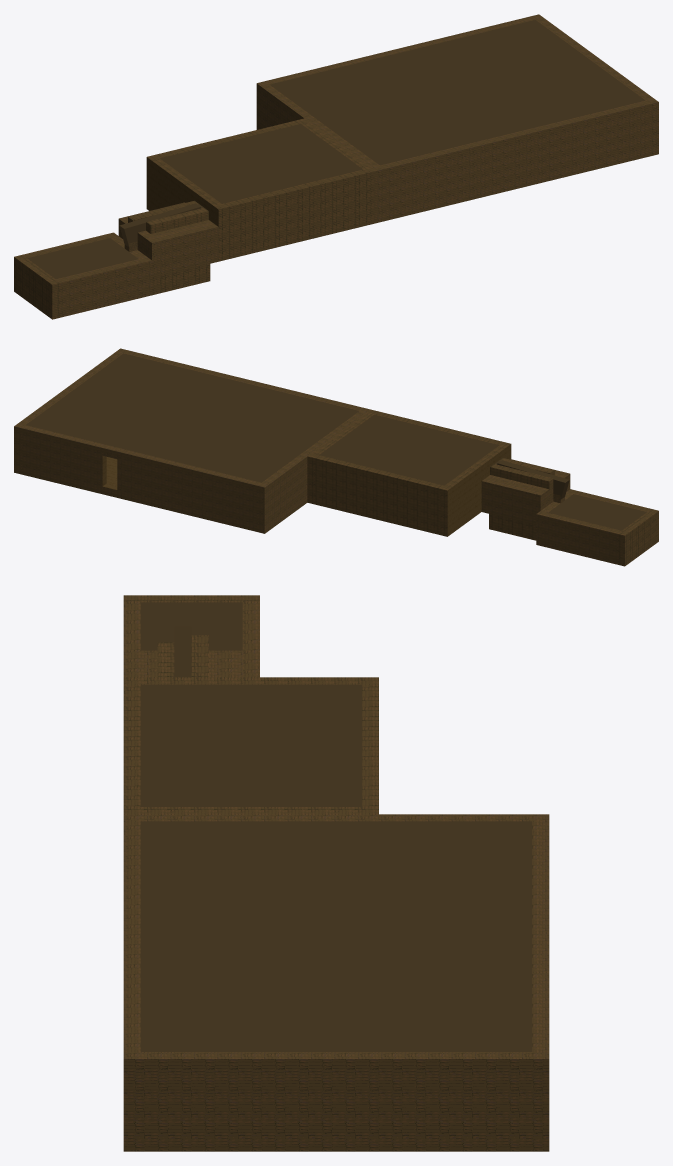
The picture shows the model from 3 angles, top to bottom: view 1: azimuth 30°, elevation 25°; view 2: azimuth 150°, elevation 25°; view 3: azimuth 270°, elevation 25°; orthographic projection. The views are drawn at different scales.
Parts seen in each view (by area): view 1: entity0_brush32, entity0_brush31, entity0_brush20, entity0_brush19, entity0_brush4, entity0_brush10, entity0_brush2, entity0_brush22, entity0_brush0, entity0_brush34, entity0_brush30, entity0_brush14 (+9 smaller); view 2: entity0_brush32, entity0_brush39, entity0_brush20, entity0_brush18, entity0_brush38, entity0_brush34, entity0_brush1, entity0_brush11, entity0_brush22, entity0_brush2, entity0_brush0, entity0_brush30 (+8 smaller); view 3: entity0_brush32, entity0_brush30, entity0_brush20, entity0_brush2, entity0_brush31, entity0_brush39, entity0_brush34, entity0_brush19, entity0_brush18, entity0_brush22, entity0_brush38, entity0_brush1 (+8 smaller).
Part boxes in pixels (box(x1,y1,x2,y2)): entity0_brush32: box(270, 20, 645, 165); entity0_brush31: box(380, 100, 650, 220); entity0_brush20: box(160, 124, 362, 203); entity0_brush19: box(222, 169, 367, 259); entity0_brush4: box(56, 259, 143, 317); entity0_brush10: box(137, 220, 218, 277); entity0_brush2: box(27, 238, 138, 279); entity0_brush22: box(146, 155, 207, 210); entity0_brush0: box(14, 255, 60, 319); entity0_brush34: box(256, 81, 345, 142); entity0_brush30: box(531, 14, 658, 155); entity0_brush14: box(152, 264, 210, 295); entity0_brush32: box(26, 353, 358, 482); entity0_brush39: box(117, 448, 260, 531); entity0_brush20: box(319, 414, 499, 485); entity0_brush18: box(314, 455, 443, 534); entity0_brush38: box(21, 425, 106, 494); entity0_brush34: box(257, 433, 336, 533); entity0_brush1: box(543, 513, 621, 564); entity0_brush11: box(481, 475, 553, 524); entity0_brush22: box(440, 454, 494, 536); entity0_brush2: box(548, 494, 646, 530); entity0_brush0: box(617, 509, 658, 566); entity0_brush30: box(14, 348, 127, 474); entity0_brush32: box(140, 821, 532, 1051); entity0_brush30: box(123, 1052, 549, 1151); entity0_brush20: box(140, 684, 361, 806); entity0_brush2: box(140, 602, 242, 650); entity0_brush31: box(123, 821, 140, 1051); entity0_brush39: box(532, 821, 549, 958); entity0_brush34: box(260, 814, 549, 821); entity0_brush19: box(123, 684, 140, 806); entity0_brush18: box(362, 684, 378, 806); entity0_brush22: box(191, 677, 378, 684); entity0_brush38: box(532, 972, 549, 1051); entity0_brush1: box(242, 602, 259, 674).
Bounding box in the file's own units: 4672 × 512 × 1600.
